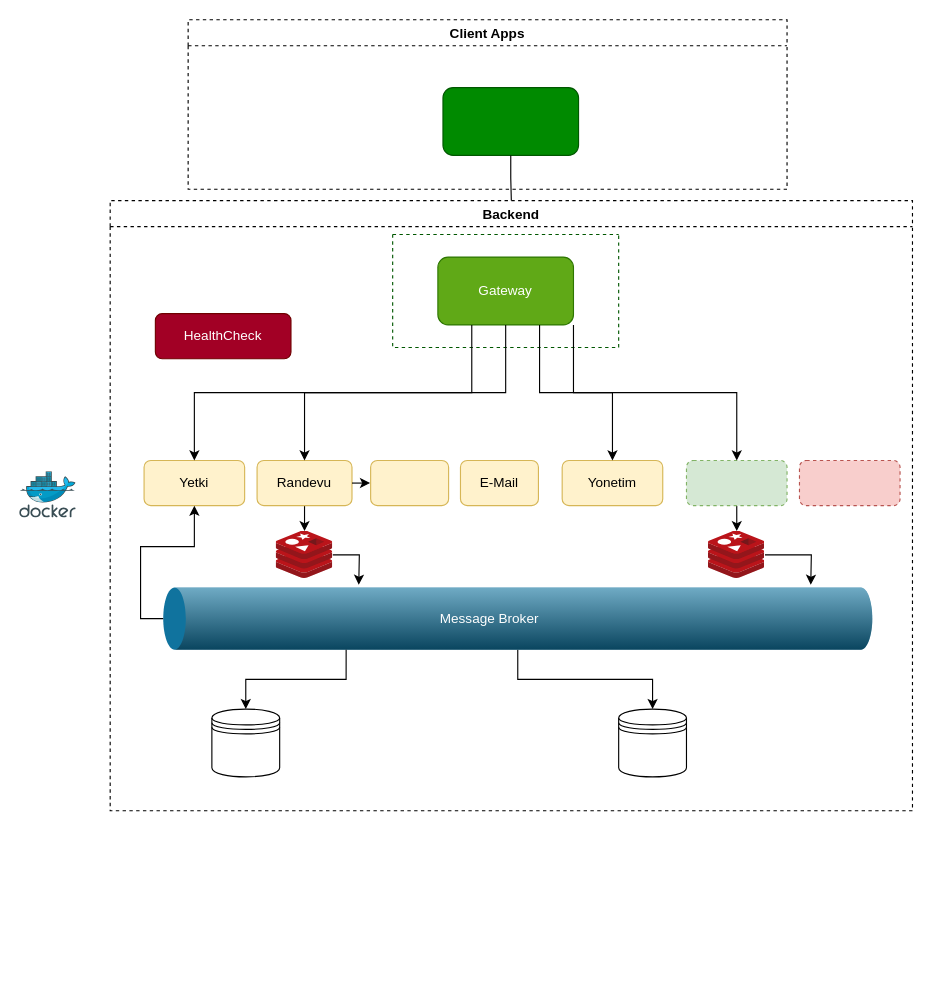
Some shapes in this 932 by 993 pixel diagram are drawn without their labels. Here are the shapes that lost their labels. From the top down, the centre of each, then its label:
At point 510,120: "WebApp".
At point 409,482: "SMS".
At point 736,482: "e-ikamet".
At point 849,482: "Yeni Service".
